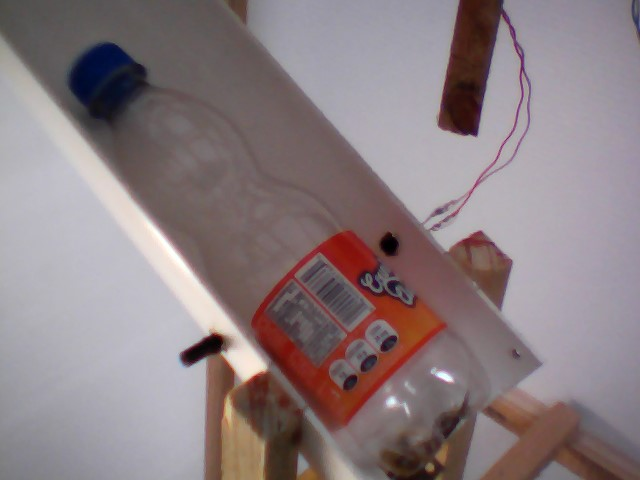plastico: (61, 32, 497, 480)
